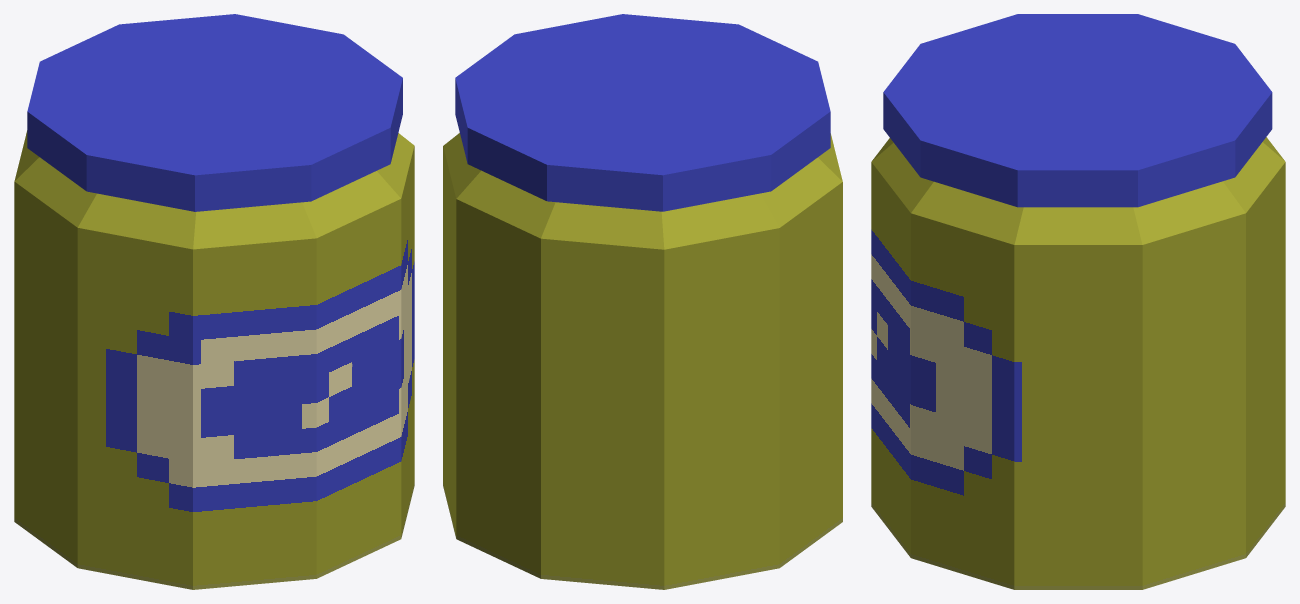
File: Jar.fbx
The picture shows the model from 3 angles, left to right: view 1: azimuth 30°, elevation 25°; view 2: azimuth 150°, elevation 25°; view 3: azimuth 270°, elevation 25°; orthographic projection.
Visible parts, largest first — view 1: Cylinder; view 2: Cylinder; view 3: Cylinder.
Part boxes in pixels (x1,y1,x2,y2): Cylinder: (14, 14, 414, 589); Cylinder: (443, 14, 842, 589); Cylinder: (871, 14, 1285, 589).
Bounding box in the file's own units: 190 × 221 × 200.
